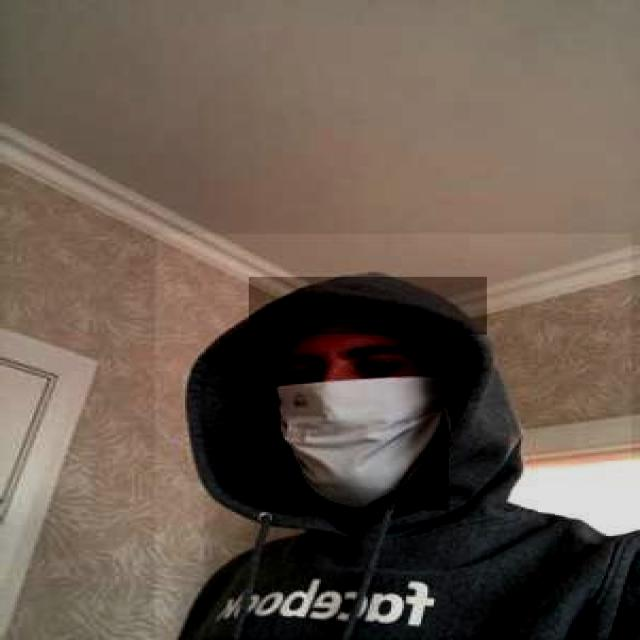face_mask: (276, 332, 448, 510)
head_nohelmet: (249, 277, 487, 334)
person: (153, 234, 632, 638)
